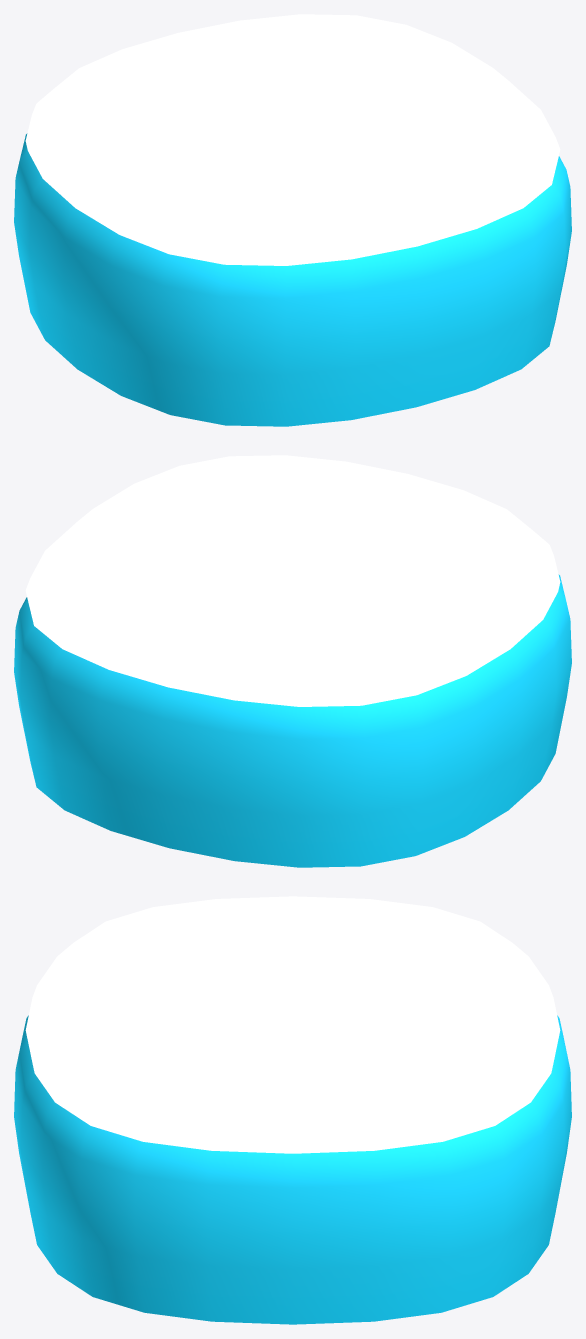
Rendered from ground_003.glb.
The picture shows the model from 3 angles, top to bottom: view 1: azimuth 30°, elevation 25°; view 2: azimuth 150°, elevation 25°; view 3: azimuth 270°, elevation 25°; orthographic projection. The views are drawn at different scales.
Parts seen in each view (by area): view 1: ground_003; view 2: ground_003; view 3: ground_003.
Part boxes in pixels (left/top/right/bottom): ground_003: left=14, top=14, right=571, bottom=426; ground_003: left=14, top=455, right=571, bottom=867; ground_003: left=14, top=896, right=571, bottom=1324.
Size of the model in its own units: 5.4 by 2.47 by 5.36.
Materials: 2 (2 with a texture image).
